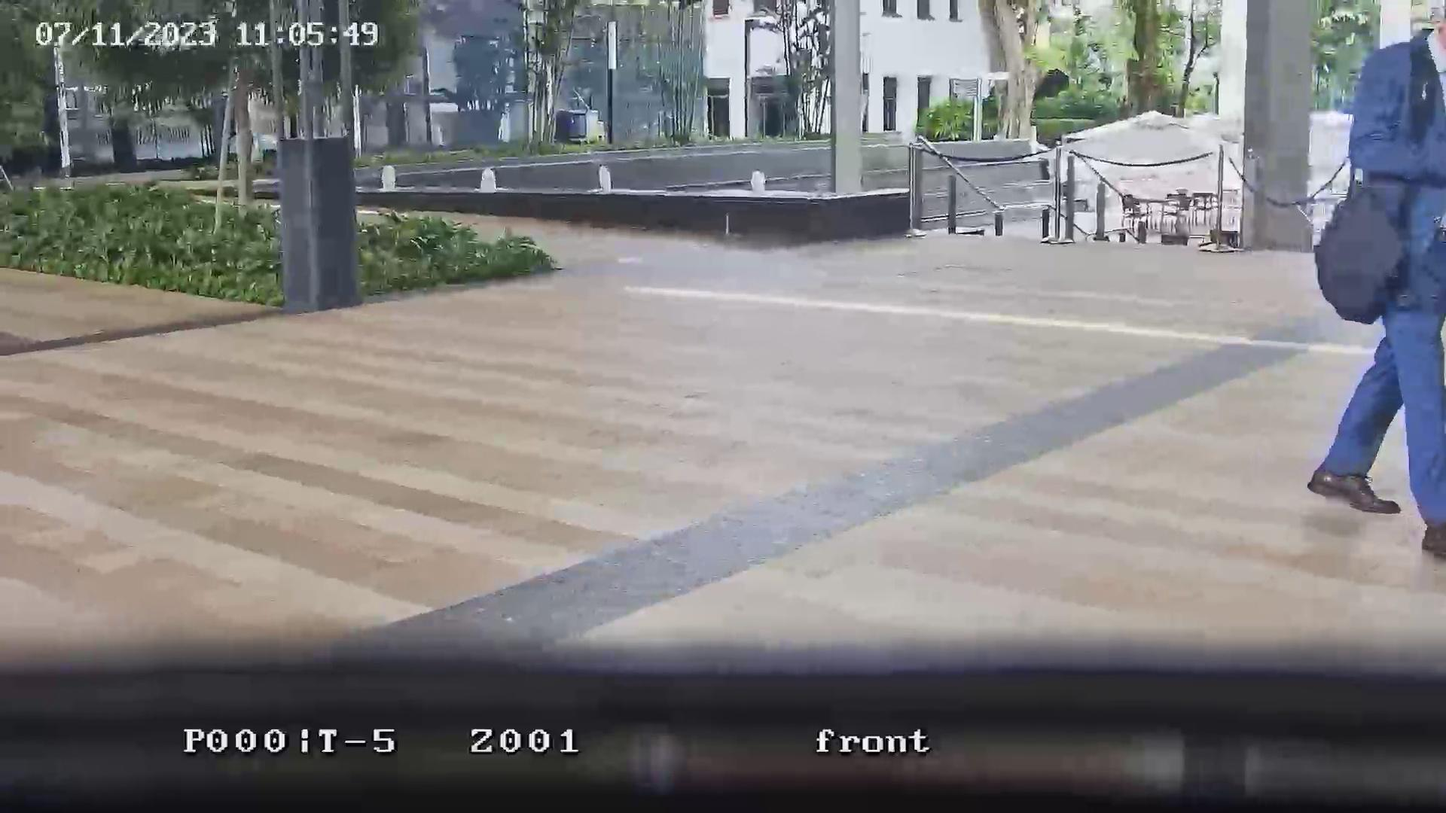person: (1308, 5, 1445, 560)
